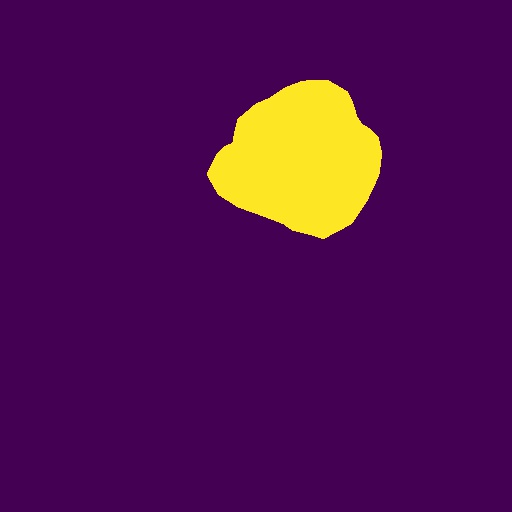Gliomia_tumour: (207, 80, 382, 239)
